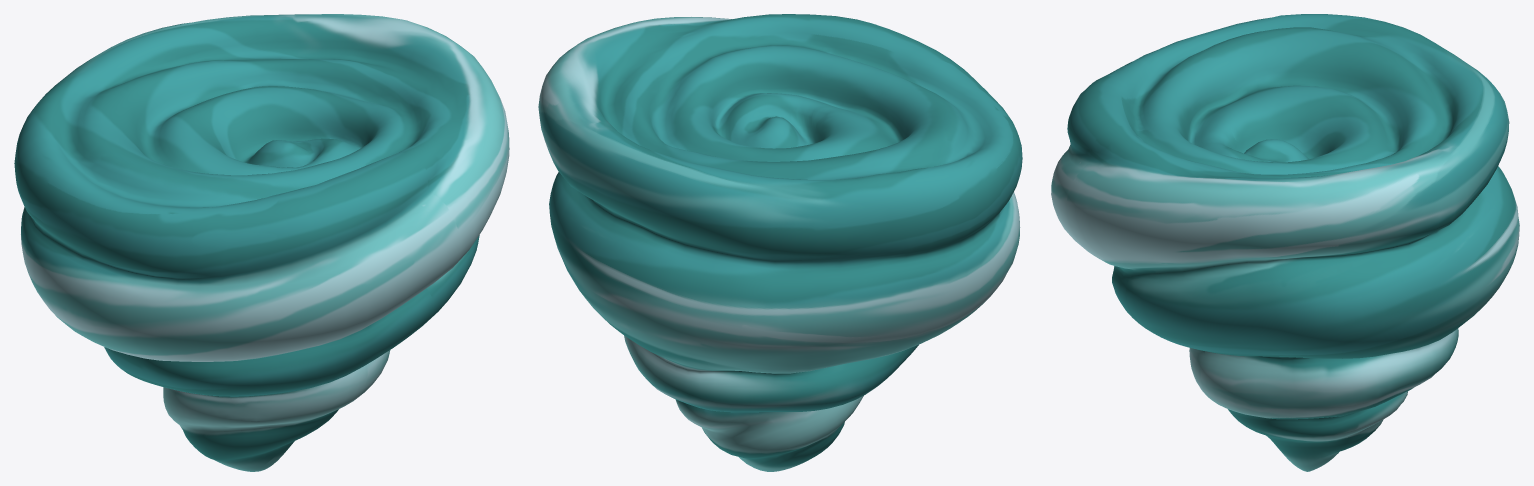
Rendered from planetE.gltf.
3 views of the same model, side by side, from view 1: azimuth 30°, elevation 25°; view 2: azimuth 150°, elevation 25°; view 3: azimuth 270°, elevation 25° (orthographic). The views are drawn at different scales.
Visible parts, largest first — view 1: E; view 2: E; view 3: E.
Boxes of the visible parts, <box> form: E: <box>14,14,509,471</box>; E: <box>538,14,1022,471</box>; E: <box>1051,14,1519,471</box>.
Bounding box in the file's own units: 3.03 × 2.55 × 2.87.
Materials: 1 (1 with a texture image).
